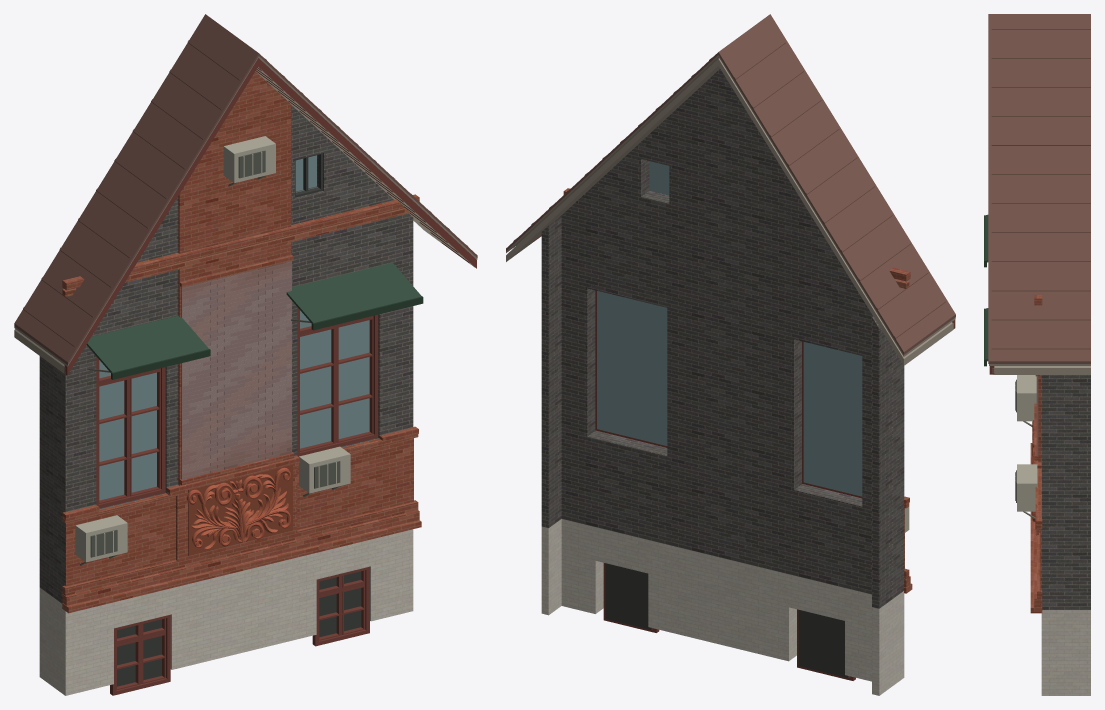
Rendered from hongkou-wujin-225-acanthus-gable-lod.glb.
3 renders of one model, left to right at view 1: azimuth 30°, elevation 25°; view 2: azimuth 150°, elevation 25°; view 3: azimuth 270°, elevation 25°, orthographic. The views are drawn at different scales.
Parts seen in each view (by area): view 1: 武进路225弄住宅卷草山墙; view 2: 武进路225弄住宅卷草山墙; view 3: 武进路225弄住宅卷草山墙.
Boxes of the visible parts, bbox=[...] form: 武进路225弄住宅卷草山墙: bbox=[14, 14, 477, 695]; 武进路225弄住宅卷草山墙: bbox=[506, 14, 955, 695]; 武进路225弄住宅卷草山墙: bbox=[984, 14, 1090, 695].
Bounding box in the file's own units: 7.16 × 10.61 × 1.69.
Materials: 25 (3 with a texture image).
